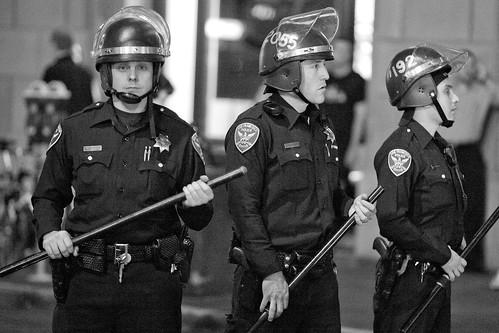policeman: (36, 13, 204, 333), (199, 10, 354, 333), (362, 35, 476, 333)
